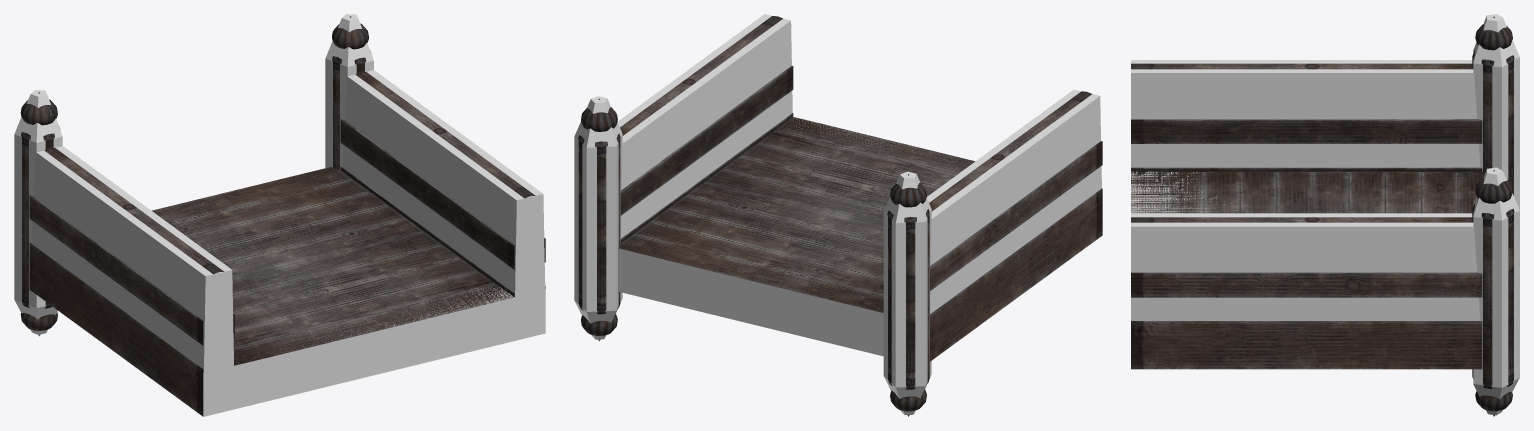
Rendered from JD_Bridge_A_2x2_02.fbx.
3 renders of one model, left to right at view 1: azimuth 30°, elevation 25°; view 2: azimuth 150°, elevation 25°; view 3: azimuth 270°, elevation 25°, orthographic.
Visible parts, largest first — view 1: JD_Bridge_A_2x2_02, C_JD_Bridge_A_2x2_02; view 2: JD_Bridge_A_2x2_02, C_JD_Bridge_A_2x2_02; view 3: C_JD_Bridge_A_2x2_02, JD_Bridge_A_2x2_02.
Boxes of the visible parts, <box> form: JD_Bridge_A_2x2_02: <box>20,16,545,416</box>; C_JD_Bridge_A_2x2_02: <box>14,14,545,416</box>; JD_Bridge_A_2x2_02: <box>578,16,1102,416</box>; C_JD_Bridge_A_2x2_02: <box>574,14,1101,414</box>; C_JD_Bridge_A_2x2_02: <box>1131,14,1519,415</box>; JD_Bridge_A_2x2_02: <box>1131,16,1514,416</box>.
Size of the model in its own units: 4.54 by 3.01 by 4.29.
